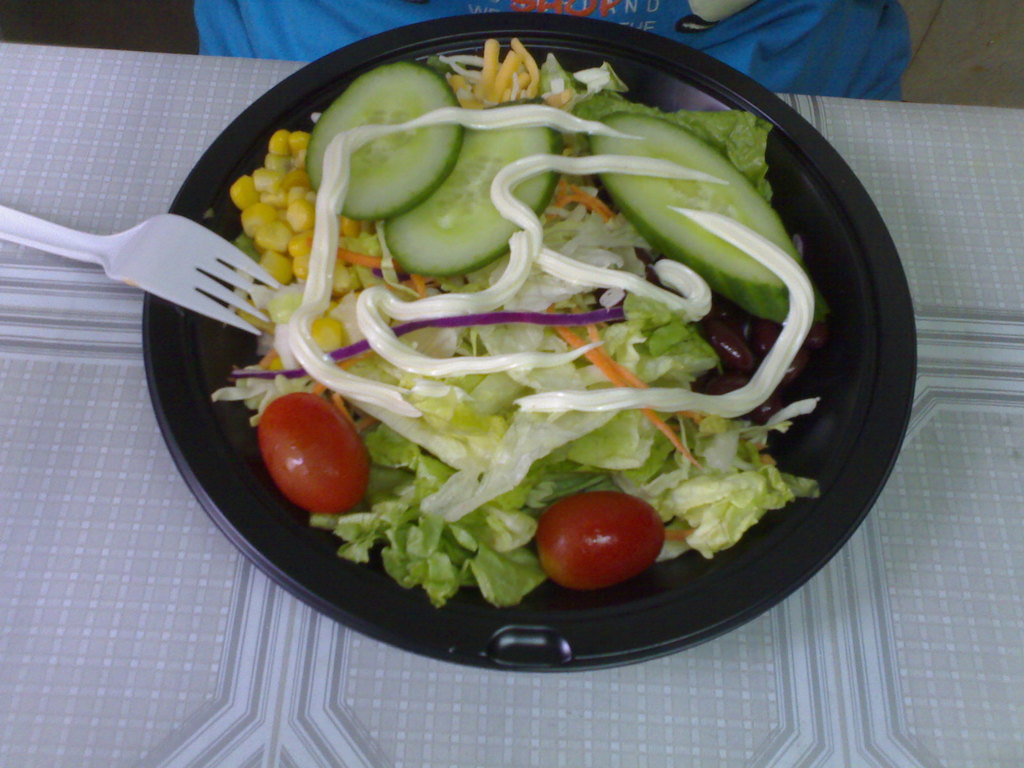Tomato: (528, 491, 657, 590), (258, 396, 365, 510)
